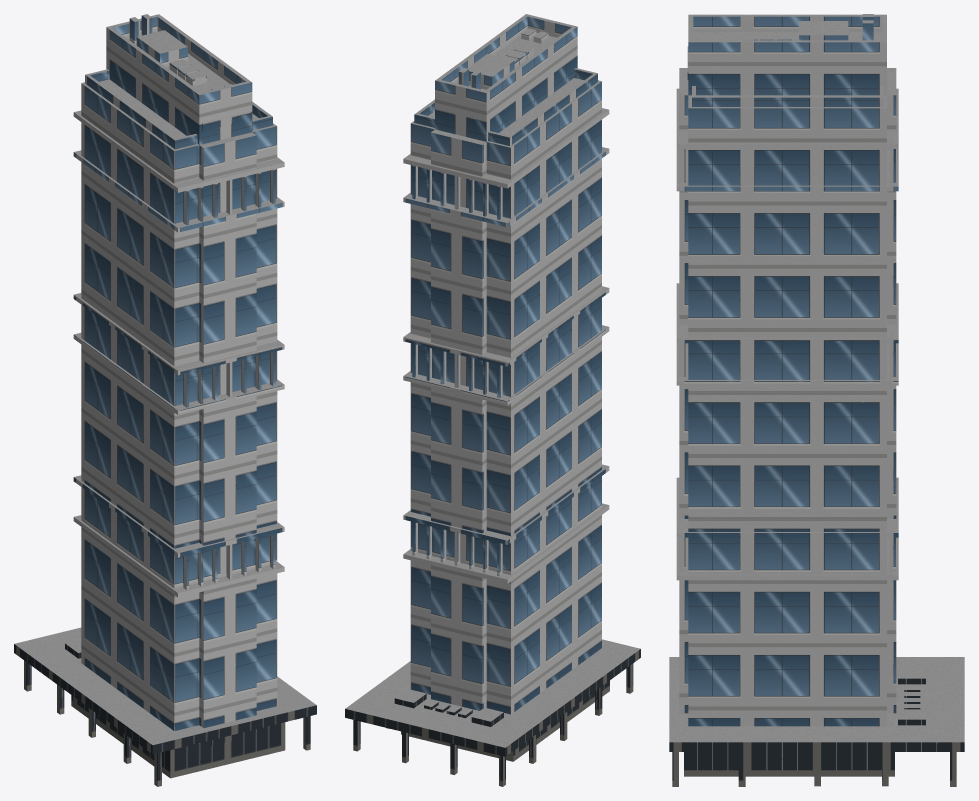
Rendered from Immeuble_3.obj.
3 views of the same model, side by side, from view 1: azimuth 30°, elevation 25°; view 2: azimuth 150°, elevation 25°; view 3: azimuth 270°, elevation 25° (orthographic). The views are drawn at different scales.
Visible parts, largest first — view 1: Immeuble; view 2: Immeuble; view 3: Immeuble.
Boxes of the visible parts, left/top/right/bottom form: Immeuble: left=14, top=14, right=316, bottom=786; Immeuble: left=345, top=14, right=640, bottom=786; Immeuble: left=669, top=14, right=964, bottom=786.
Size of the model in its own units: 9.28 by 36.91 by 13.57.
Materials: 3 (3 with a texture image).
